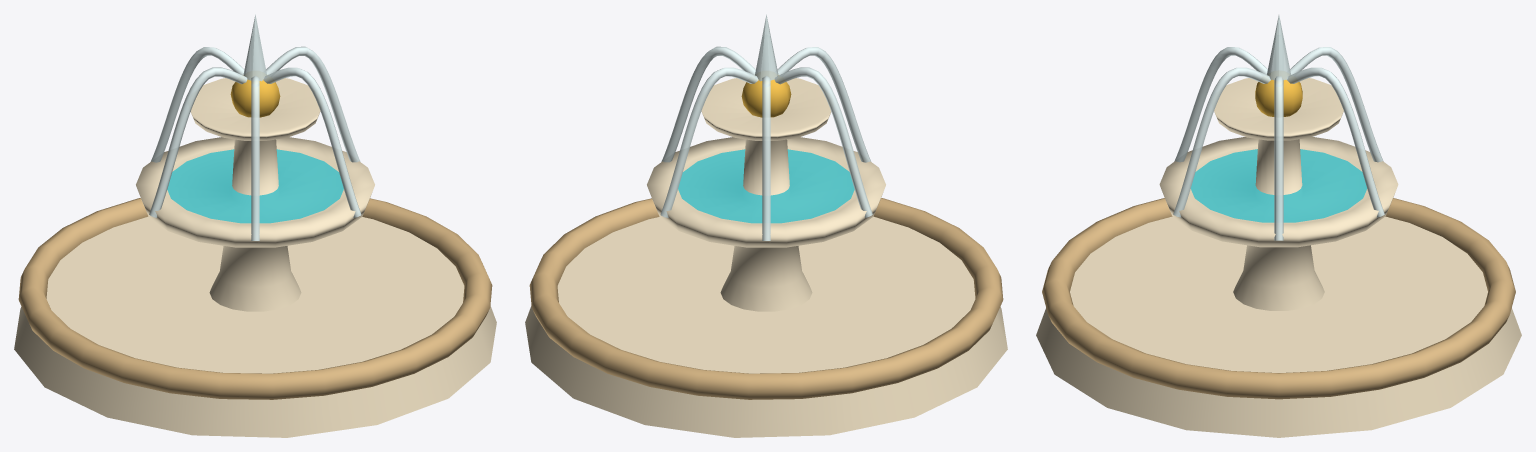
Rendered from fountain.glb.
3 renders of one model, left to right at view 1: azimuth 30°, elevation 25°; view 2: azimuth 150°, elevation 25°; view 3: azimuth 270°, elevation 25°, orthographic.
Visible parts, largest first — view 1: Mesh_cream, Mesh_sandStone, Mesh_waterFoam, Mesh_water, Mesh_gold; view 2: Mesh_cream, Mesh_sandStone, Mesh_waterFoam, Mesh_water, Mesh_gold; view 3: Mesh_cream, Mesh_sandStone, Mesh_waterFoam, Mesh_water, Mesh_gold.
Part boxes in pixels (x1,y1,x2,y2): Mesh_cream: [14, 78, 496, 437]; Mesh_sandStone: [18, 198, 492, 399]; Mesh_waterFoam: [149, 14, 361, 240]; Mesh_water: [167, 149, 343, 223]; Mesh_gold: [230, 75, 280, 117]; Mesh_cream: [525, 78, 1007, 437]; Mesh_sandStone: [529, 198, 1003, 399]; Mesh_waterFoam: [660, 14, 872, 240]; Mesh_water: [678, 149, 854, 223]; Mesh_gold: [741, 75, 791, 117]; Mesh_cream: [1036, 78, 1521, 437]; Mesh_sandStone: [1042, 198, 1515, 399]; Mesh_waterFoam: [1173, 15, 1384, 240]; Mesh_water: [1190, 149, 1367, 222]; Mesh_gold: [1255, 79, 1302, 116].
Size of the model in its own units: 4.88 by 3.56 by 4.88.
